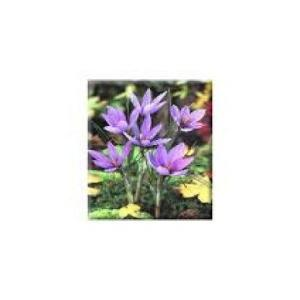Saffron: (148, 144, 192, 178), (89, 143, 131, 174), (130, 118, 167, 149), (102, 106, 138, 135), (172, 102, 206, 131), (132, 87, 164, 115)
